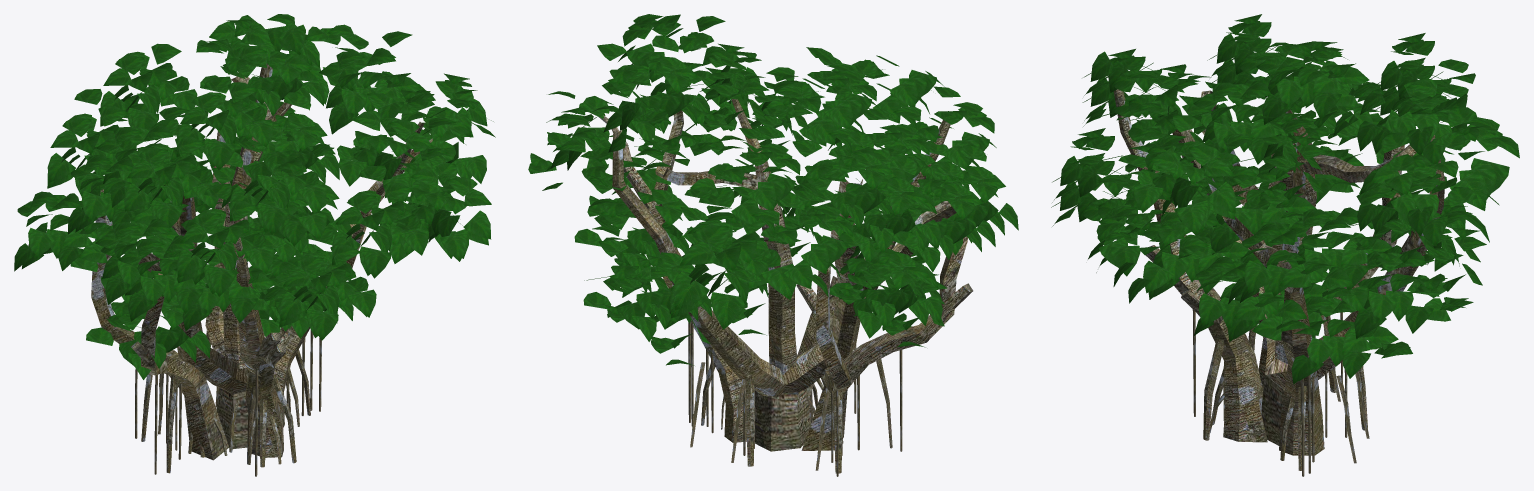
File: cay-da-02.glb
3 renders of one model, left to right at view 1: azimuth 30°, elevation 25°; view 2: azimuth 150°, elevation 25°; view 3: azimuth 270°, elevation 25°, orthographic. The views are drawn at different scales.
Visible parts, largest first — view 1: CayDa_NongDucManh; view 2: CayDa_NongDucManh; view 3: CayDa_NongDucManh.
Boxes of the visible parts, x1,y1,x2,y2 form: CayDa_NongDucManh: [14, 14, 495, 476]; CayDa_NongDucManh: [528, 14, 1018, 476]; CayDa_NongDucManh: [1051, 14, 1519, 476].
Bounding box in the file's own units: 23.67 × 19.81 × 21.35.
Materials: 1 (1 with a texture image).
